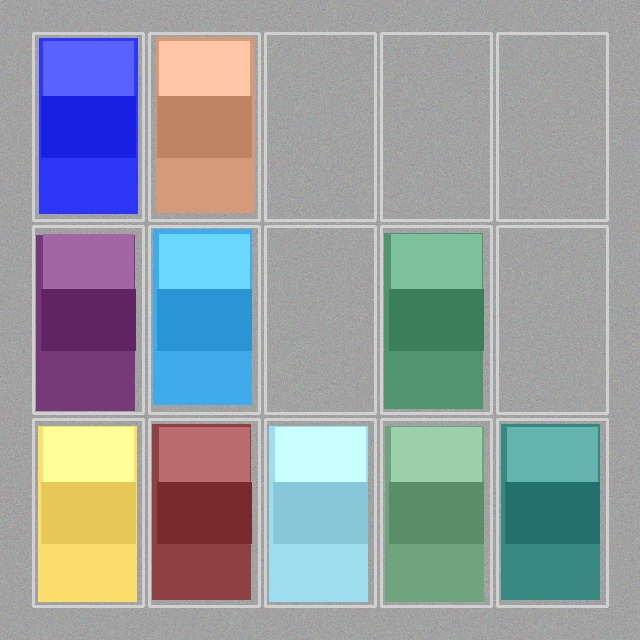space-empty: (267, 35, 373, 218), (383, 35, 489, 218), (499, 35, 605, 218), (267, 228, 373, 411), (499, 228, 605, 411)
space-occupied: (35, 35, 141, 218), (151, 35, 257, 218), (35, 228, 141, 411), (151, 228, 257, 411), (383, 228, 489, 411), (35, 421, 141, 604), (151, 421, 257, 604), (267, 421, 373, 604), (383, 421, 489, 604), (499, 421, 605, 604)
